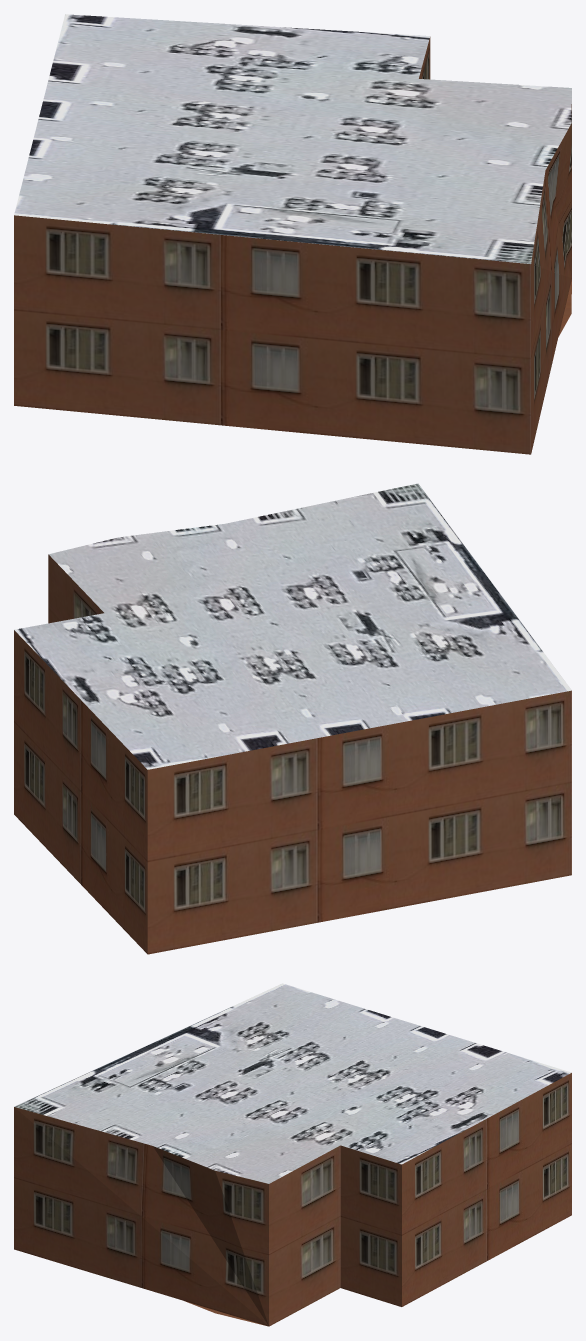
Rendered from ResTex__1383.fbx.
The picture shows the model from 3 angles, top to bottom: view 1: azimuth 30°, elevation 25°; view 2: azimuth 150°, elevation 25°; view 3: azimuth 270°, elevation 25°; orthographic projection. The views are drawn at different scales.
Visible parts, largest first — view 1: CityEngineMaterial_20_m, CityEngineMaterial_m; view 2: CityEngineMaterial_20_m, CityEngineMaterial_m; view 3: CityEngineMaterial_20_m, CityEngineMaterial_m.
Boxes of the visible parts, box(x1,y1,x2,y2) form: CityEngineMaterial_20_m: box(14, 37, 571, 454); CityEngineMaterial_m: box(14, 14, 571, 263); CityEngineMaterial_20_m: box(14, 554, 571, 954); CityEngineMaterial_m: box(14, 483, 571, 769); CityEngineMaterial_20_m: box(14, 1073, 571, 1326); CityEngineMaterial_m: box(14, 983, 571, 1183).
Bounding box in the file's own units: 18.1 × 6 × 21.27.
2 materials, 2 textured.
